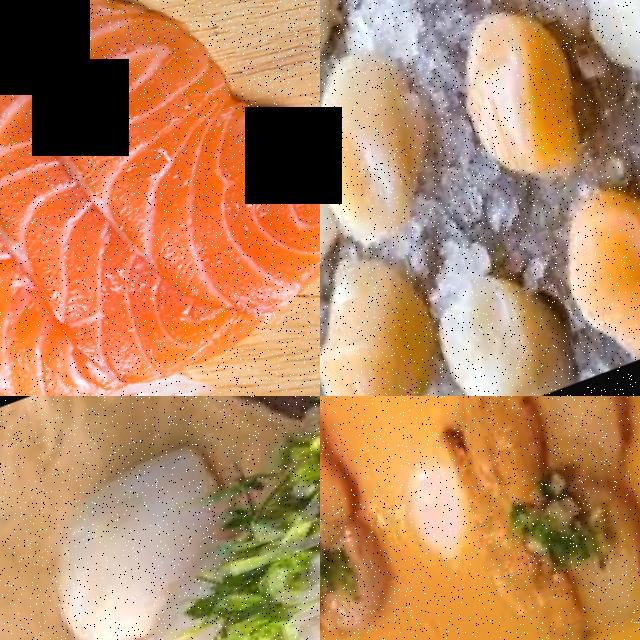salmon: (117, 64, 320, 346), (0, 0, 232, 240), (0, 239, 114, 396)
sea scallops: (28, 441, 241, 640), (438, 0, 603, 204), (320, 39, 463, 256), (320, 244, 464, 396), (427, 262, 586, 396), (543, 165, 640, 383)
